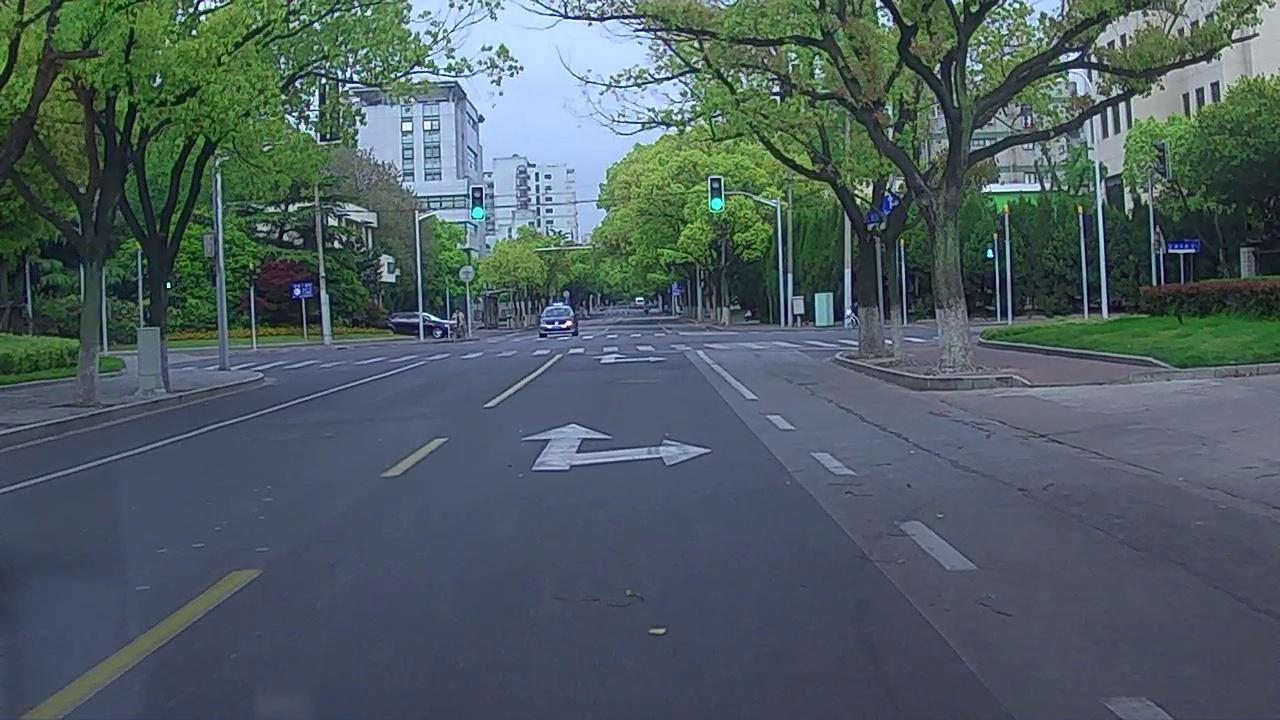traffic_light: (710, 176, 723, 212), (472, 185, 484, 220)
